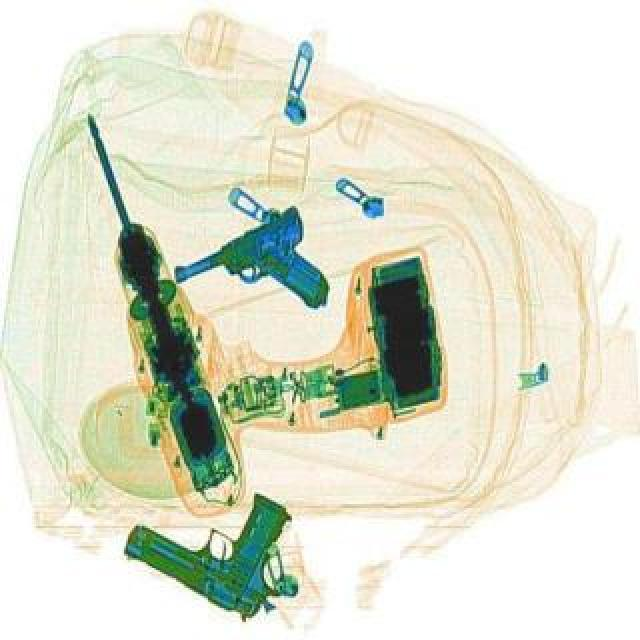gun: (114, 450, 322, 624), (164, 200, 348, 356)
